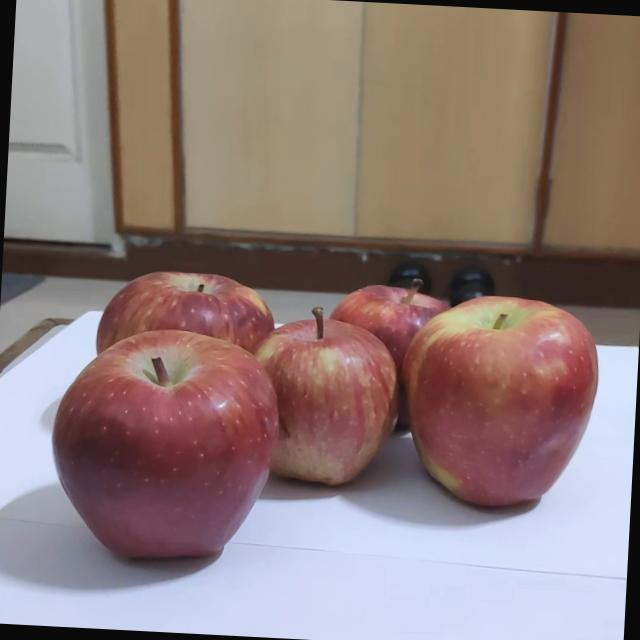apple: (72, 328, 318, 586), (62, 234, 268, 431), (404, 290, 600, 493), (245, 301, 420, 476), (296, 244, 444, 388)
